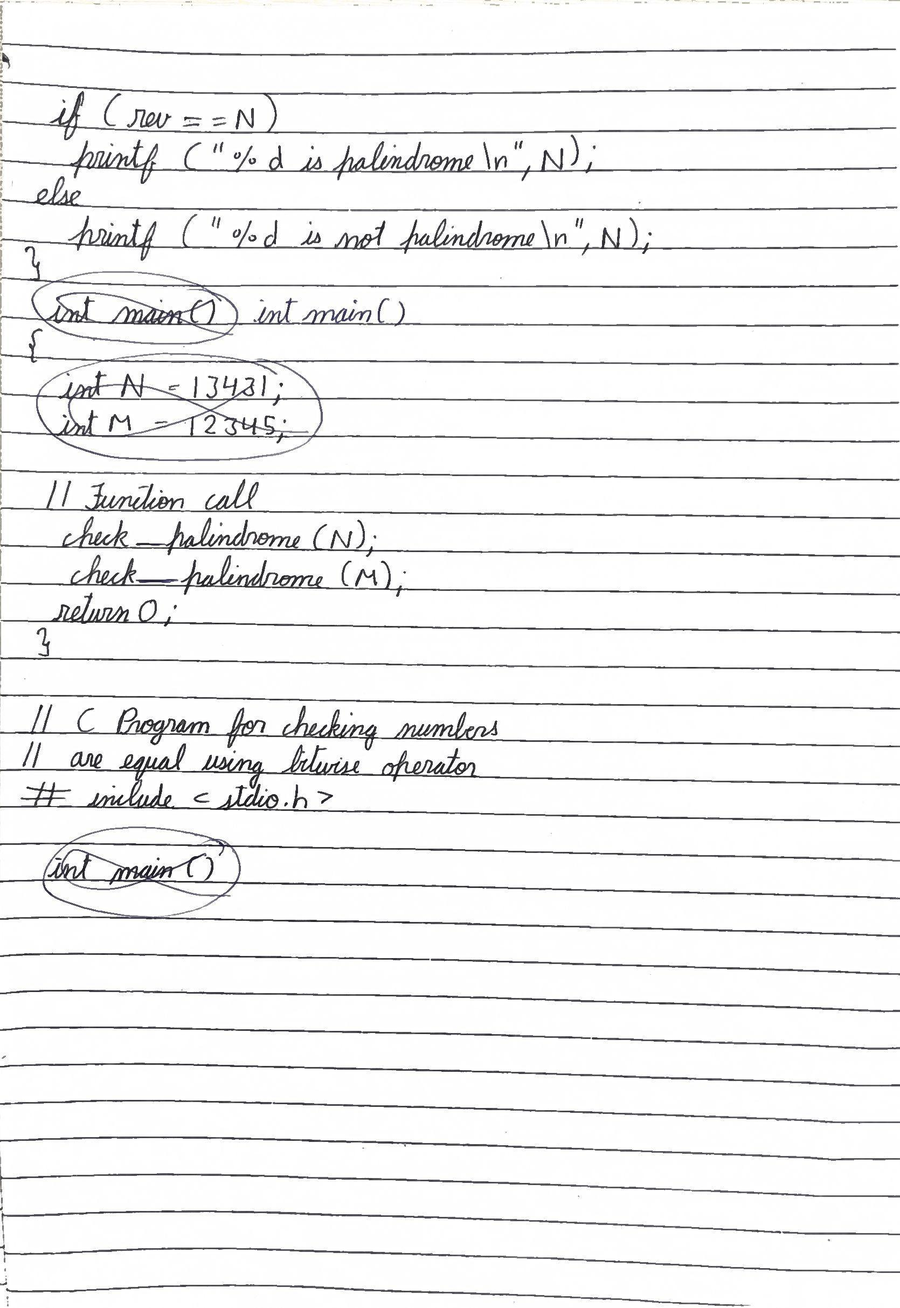cuttings: (32, 351, 328, 463), (40, 826, 244, 918), (30, 270, 238, 345)
